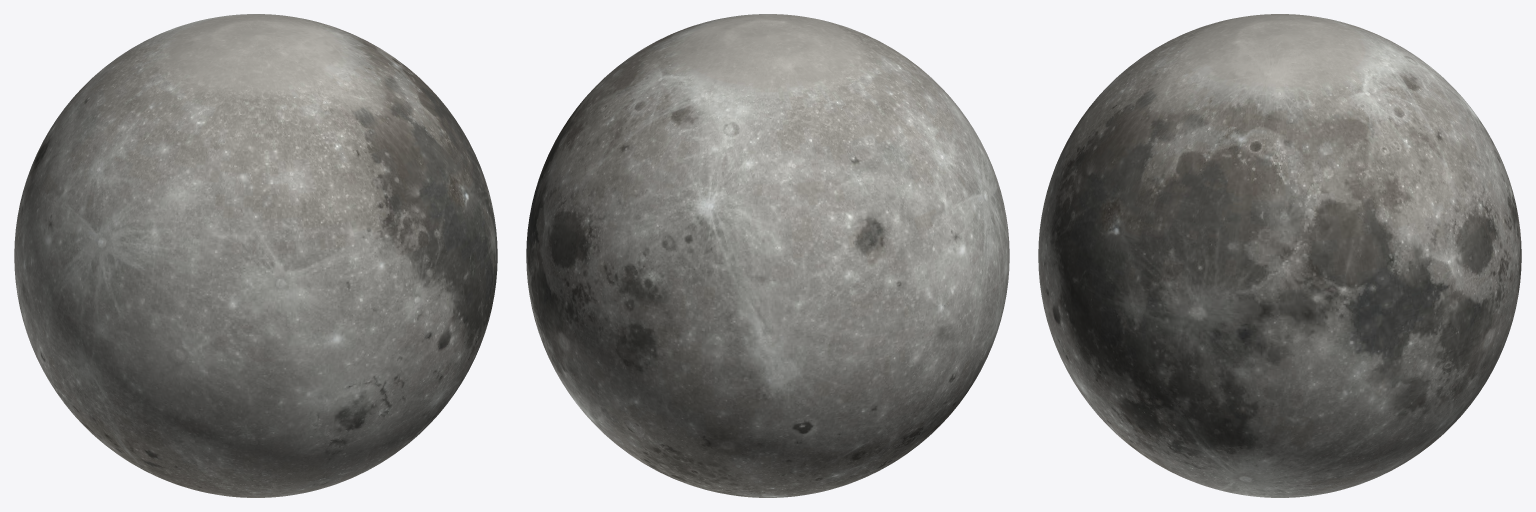
File: moon.glb
3 views of the same model, side by side, from view 1: azimuth 30°, elevation 25°; view 2: azimuth 150°, elevation 25°; view 3: azimuth 270°, elevation 25° (orthographic).
Visible parts, largest first — view 1: Moon; view 2: Moon; view 3: Moon.
Boxes of the visible parts, box(x1,y1,x2,y2) form: Moon: box(14, 14, 497, 497); Moon: box(526, 14, 1009, 497); Moon: box(1038, 14, 1521, 497).
Bounding box in the file's own units: 1.98 × 2 × 1.98.
1 material, 1 textured.
